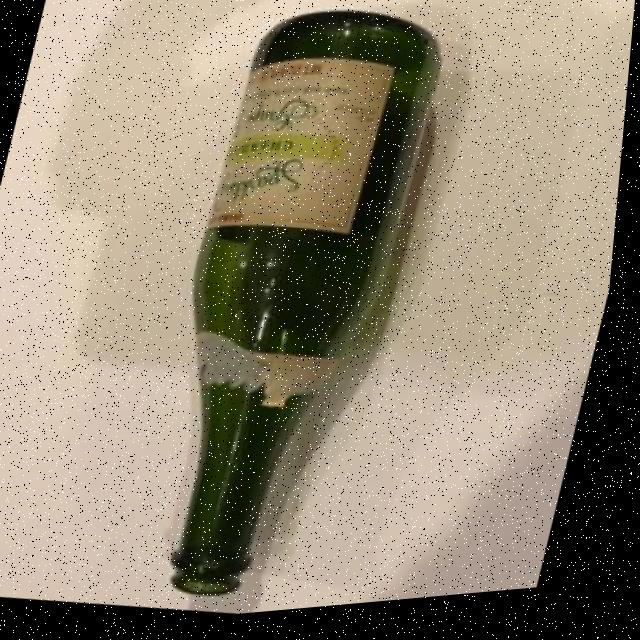glass: (120, 0, 478, 628)
